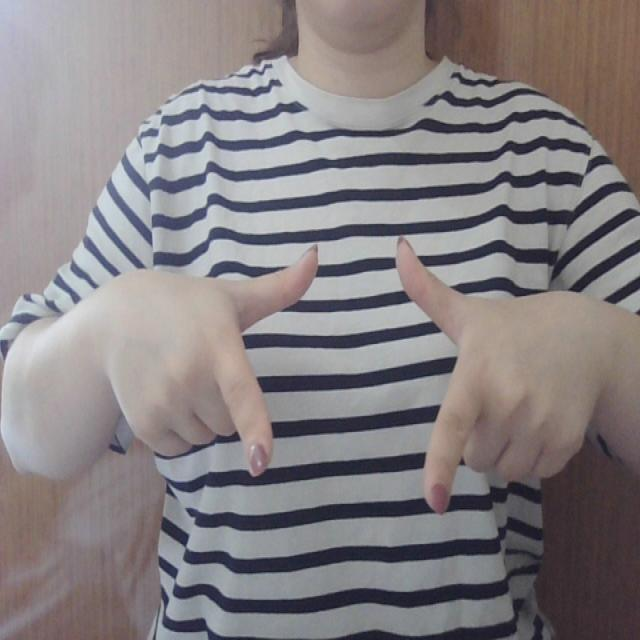Nerede: (197, 232, 502, 526)
